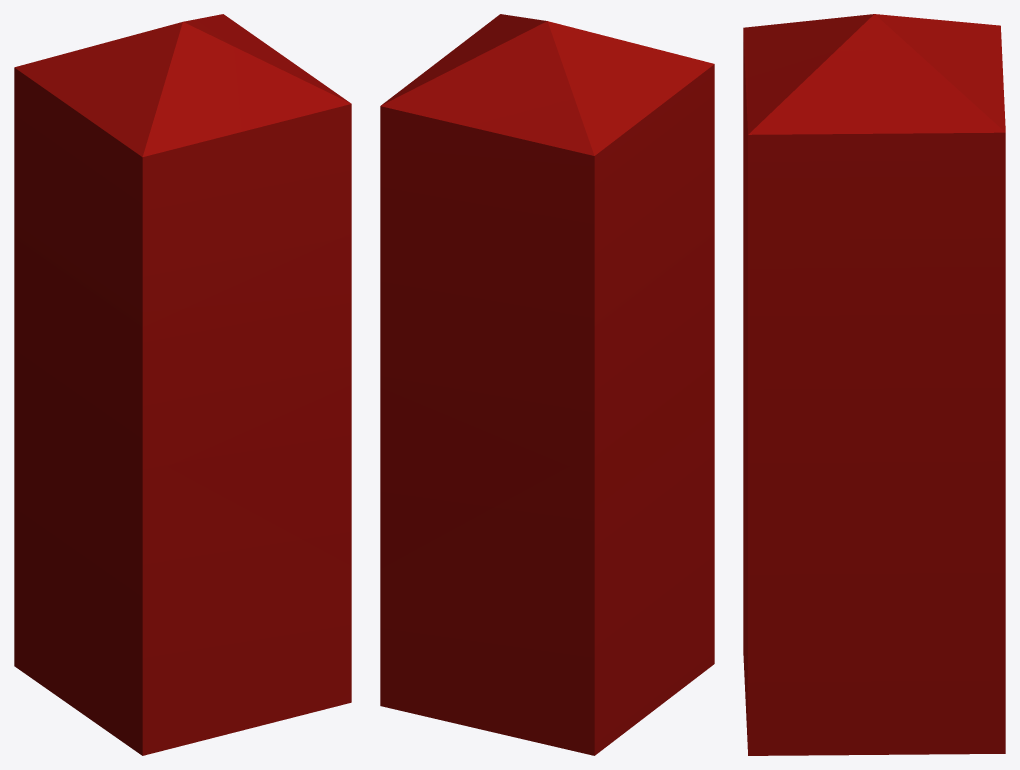
The model's file is military_stopcolumn.fbx.
3 views of the same model, side by side, from view 1: azimuth 30°, elevation 25°; view 2: azimuth 150°, elevation 25°; view 3: azimuth 270°, elevation 25° (orthographic). The views are drawn at different scales.
Parts seen in each view (by area): view 1: military_stopcolumn; view 2: military_stopcolumn; view 3: military_stopcolumn.
Boxes of the visible parts, bbox=[...] form: military_stopcolumn: bbox=[14, 14, 351, 755]; military_stopcolumn: bbox=[380, 14, 714, 755]; military_stopcolumn: bbox=[743, 14, 1005, 755].
Size of the model in its own units: 0.3346 by 0.9816 by 0.3399.
